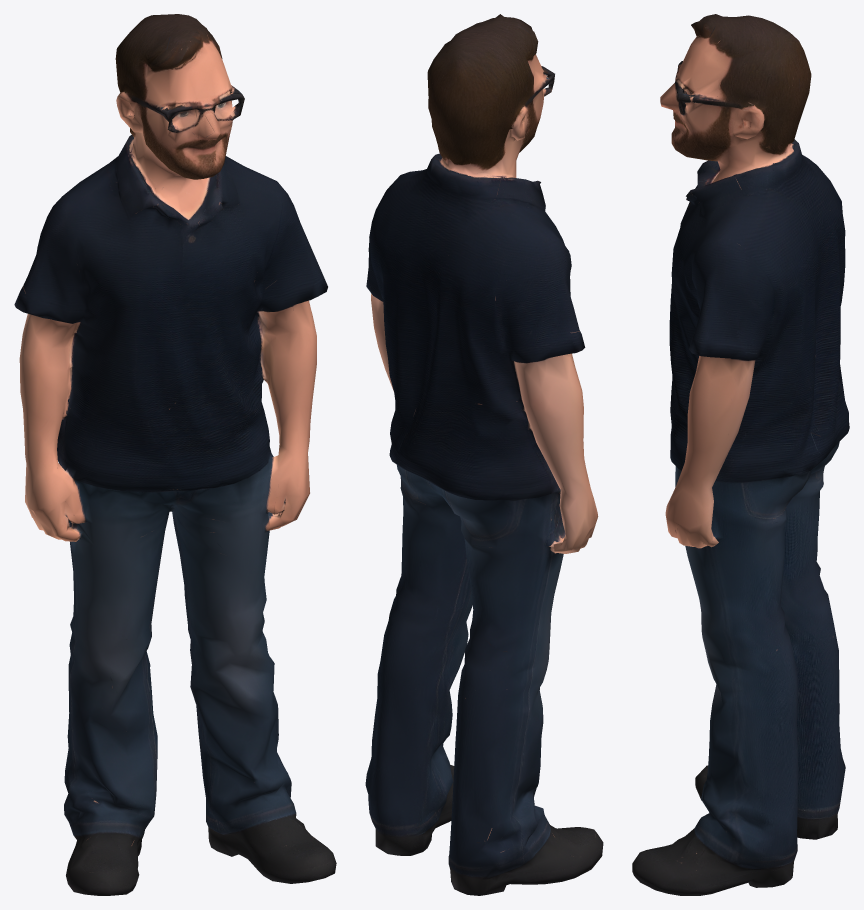
The model's file is DrV_Statue.glb.
3 views of the same model, side by side, from view 1: azimuth 30°, elevation 25°; view 2: azimuth 150°, elevation 25°; view 3: azimuth 270°, elevation 25° (orthographic). The views are drawn at different scales.
Visible parts, largest first — view 1: Mesh1.0; view 2: Mesh1.0; view 3: Mesh1.0.
Part boxes in pixels (x1=…): Mesh1.0: x1=14, y1=14, x2=336, y2=895; Mesh1.0: x1=365, y1=14, x2=603, y2=895; Mesh1.0: x1=632, y1=14, x2=849, y2=895.
Bounding box in the file's own units: 0.6115 × 1.91 × 0.4582.
Materials: 1 (1 with a texture image).
